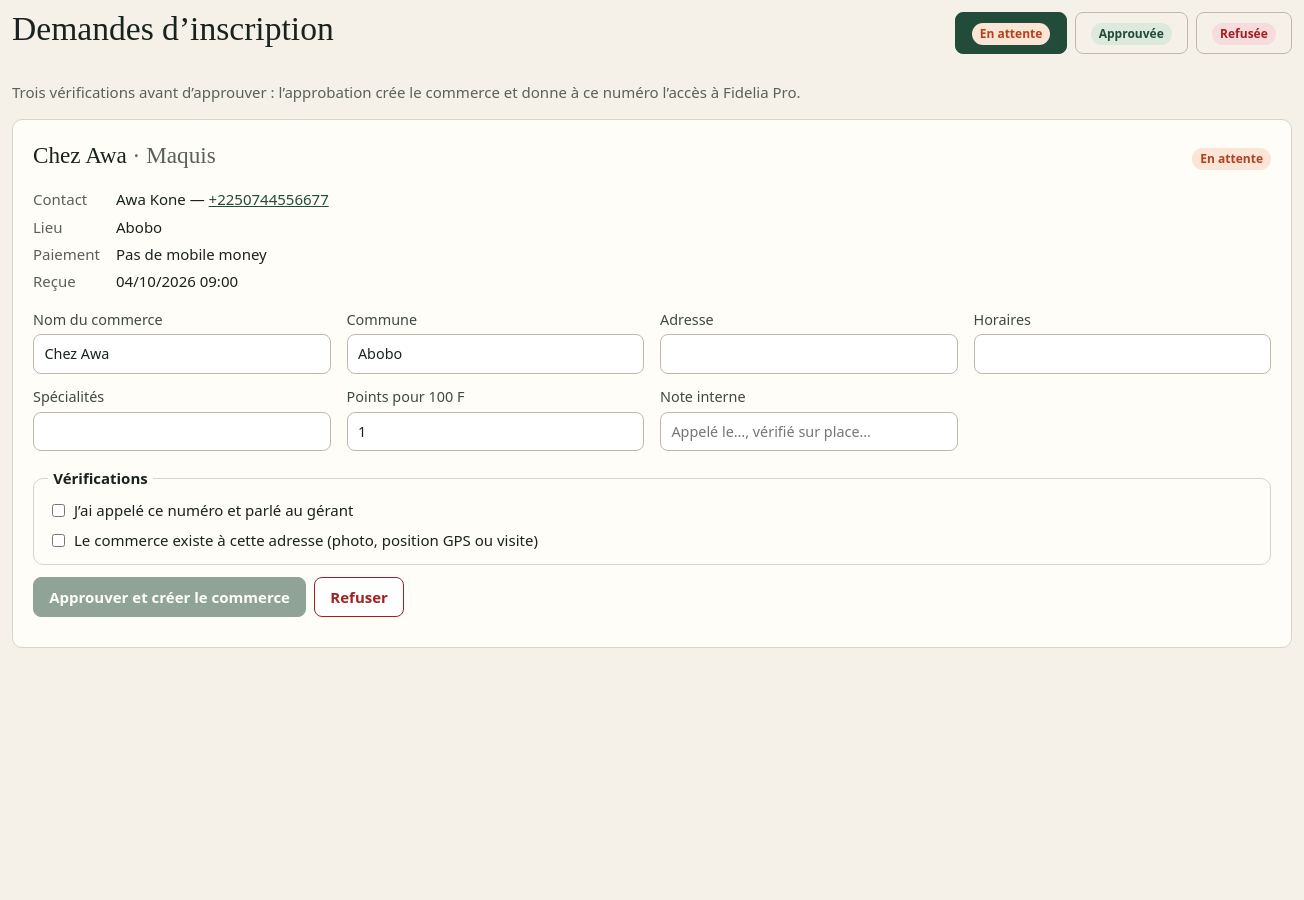
approving a merchant request › shows the server refusal
Expected: the heading "Chez Awa · Maquis" is shown, [33,138,216,172]
Click the checkbox labelled "J’ai appelé ce numéro et parlé au gérant".
click(59, 511)  # box [52,504,65,517]
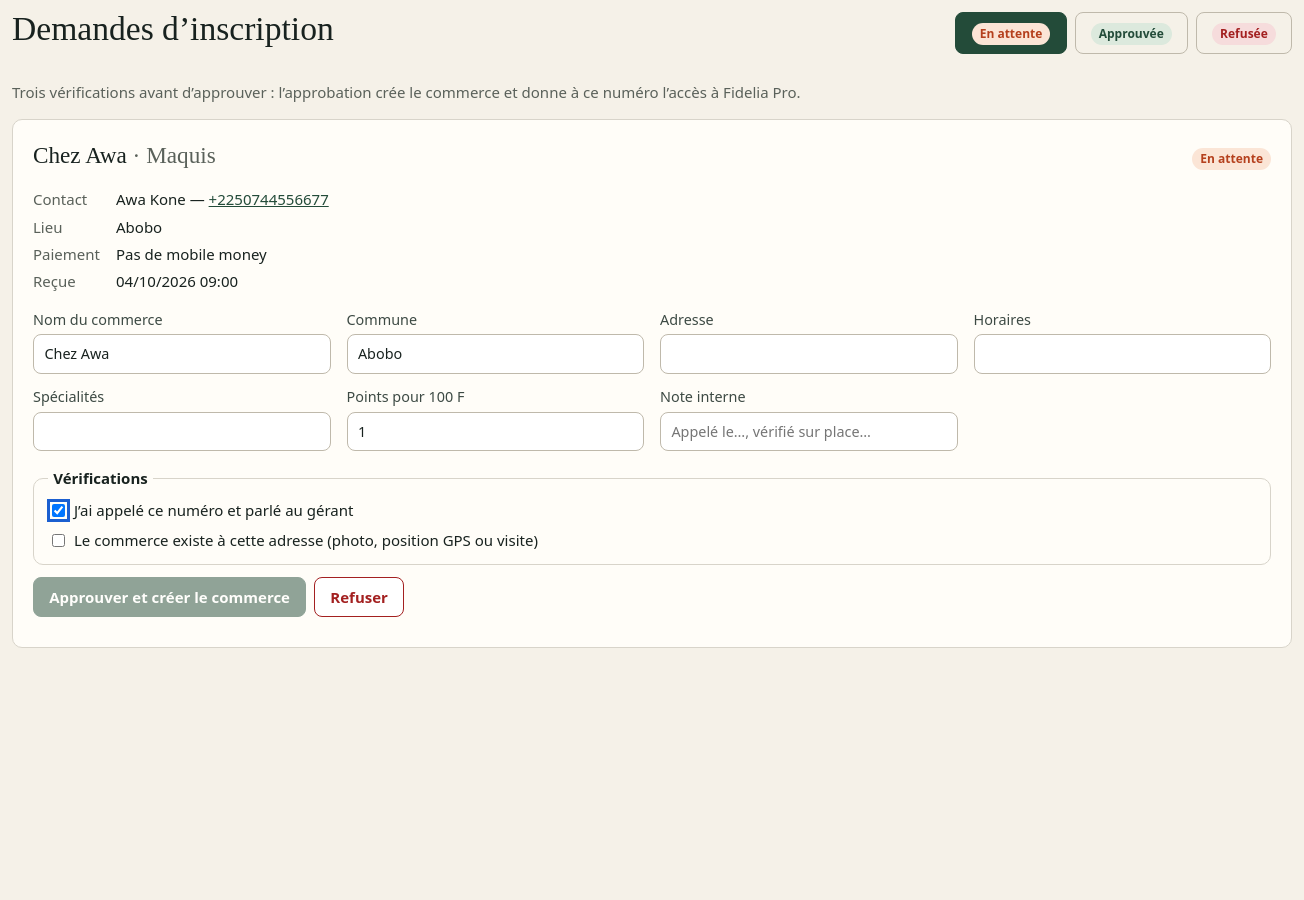
Click the 2nd checkbox.
click(59, 540)  # box [52,534,65,547]
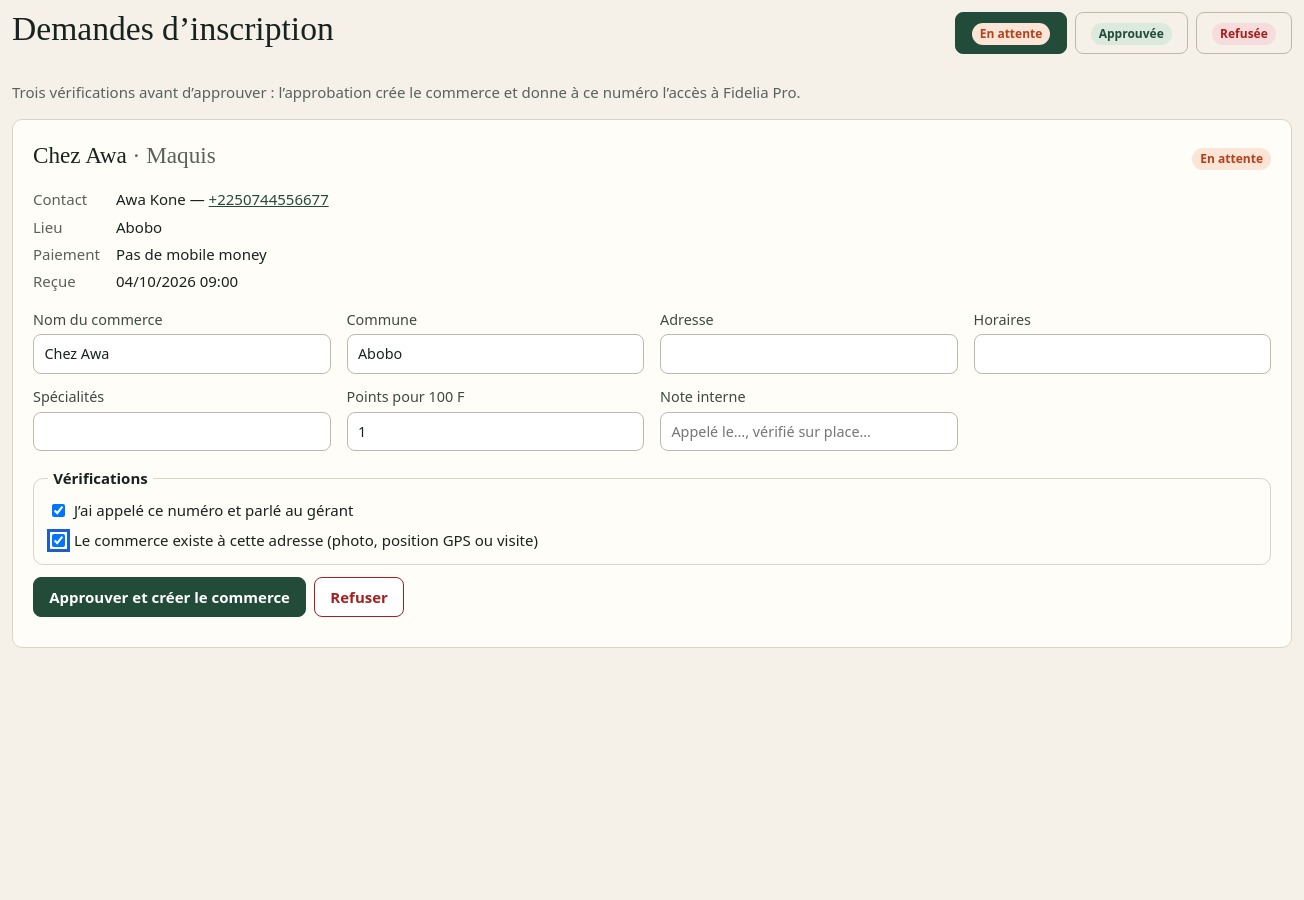
Click the button "Approuver et créer le commerce".
click(170, 597)  # box [33,576,306,617]
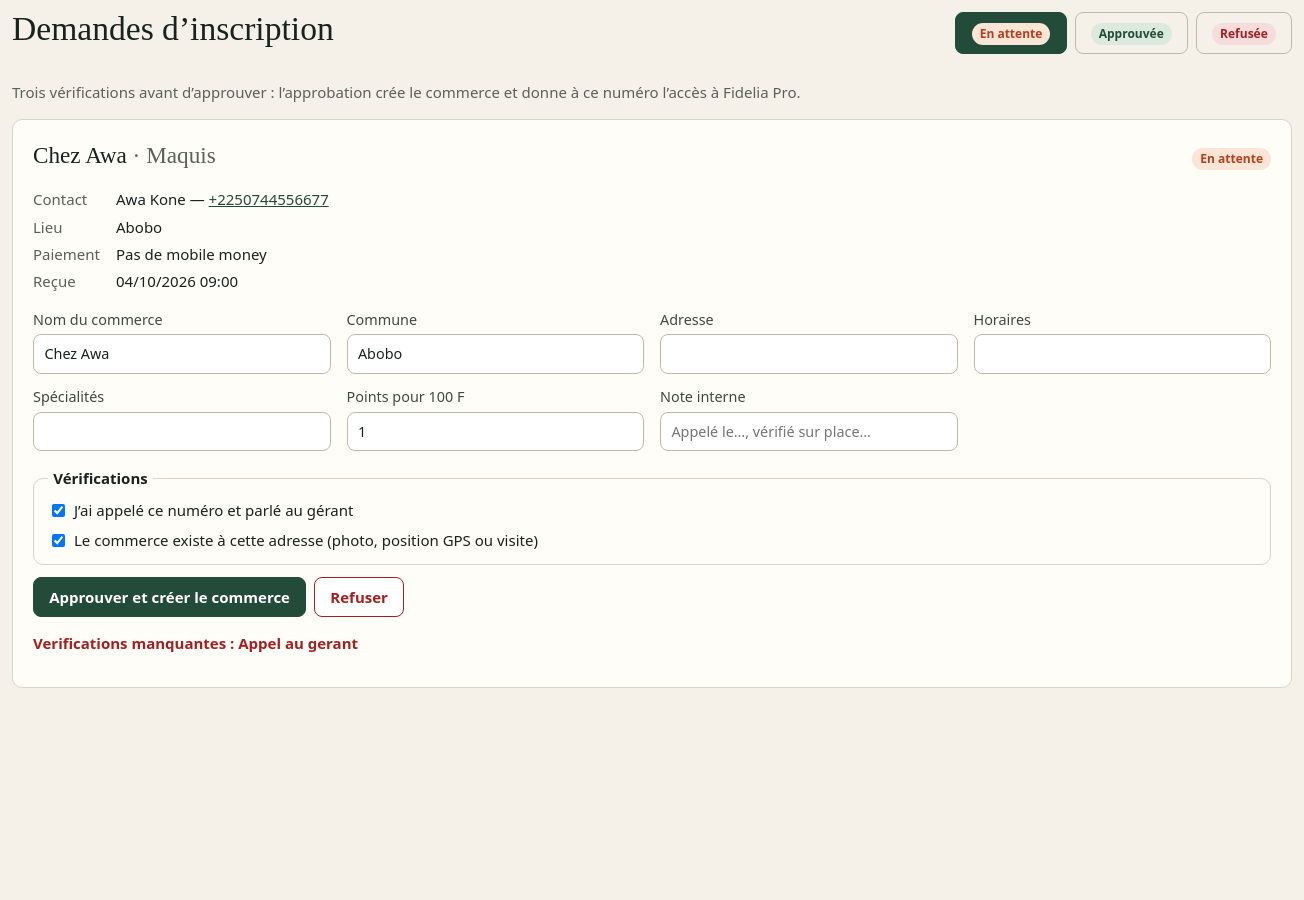
Expected: the text "Verifications manquantes : Appel au gerant" is shown, [33,633,358,653]
